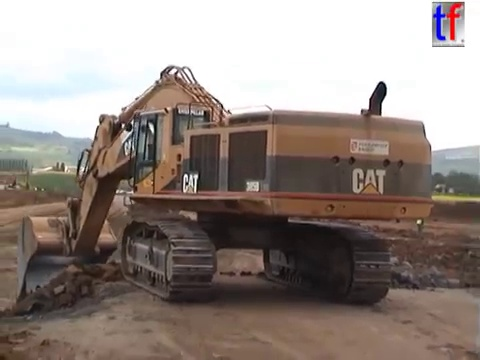excavator: (13, 61, 437, 308), (2, 175, 30, 194)
worker: (413, 207, 427, 236)
